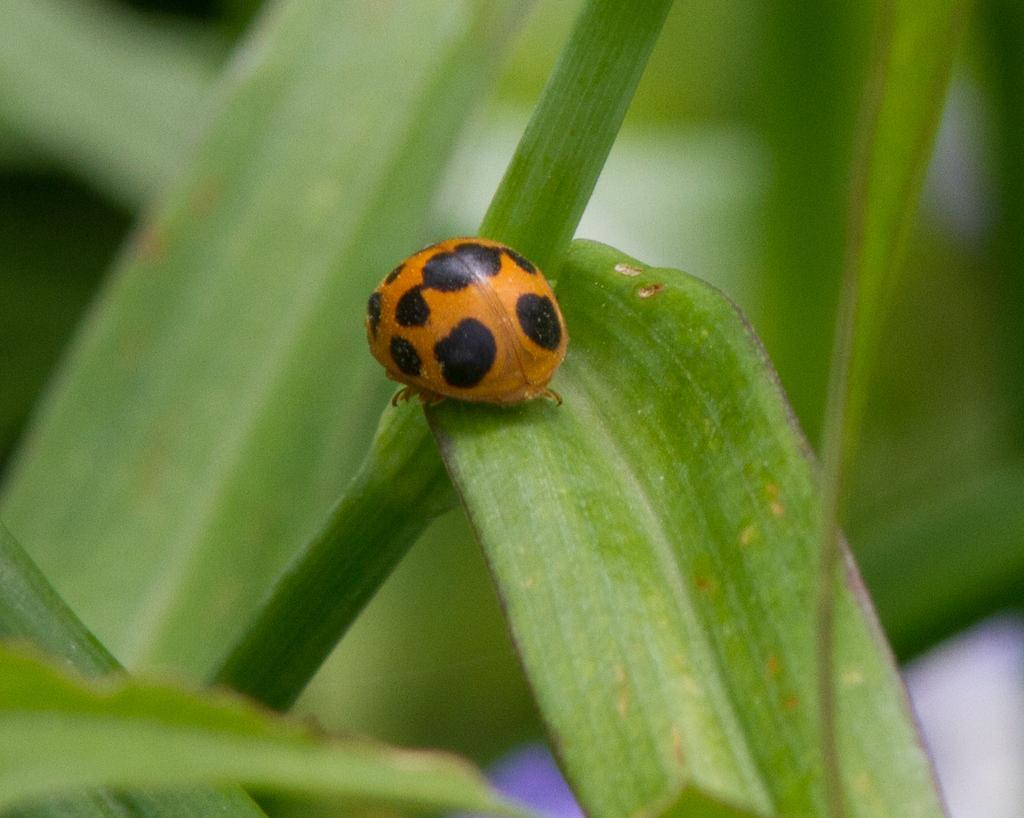ladybug: (361, 234, 576, 416)
